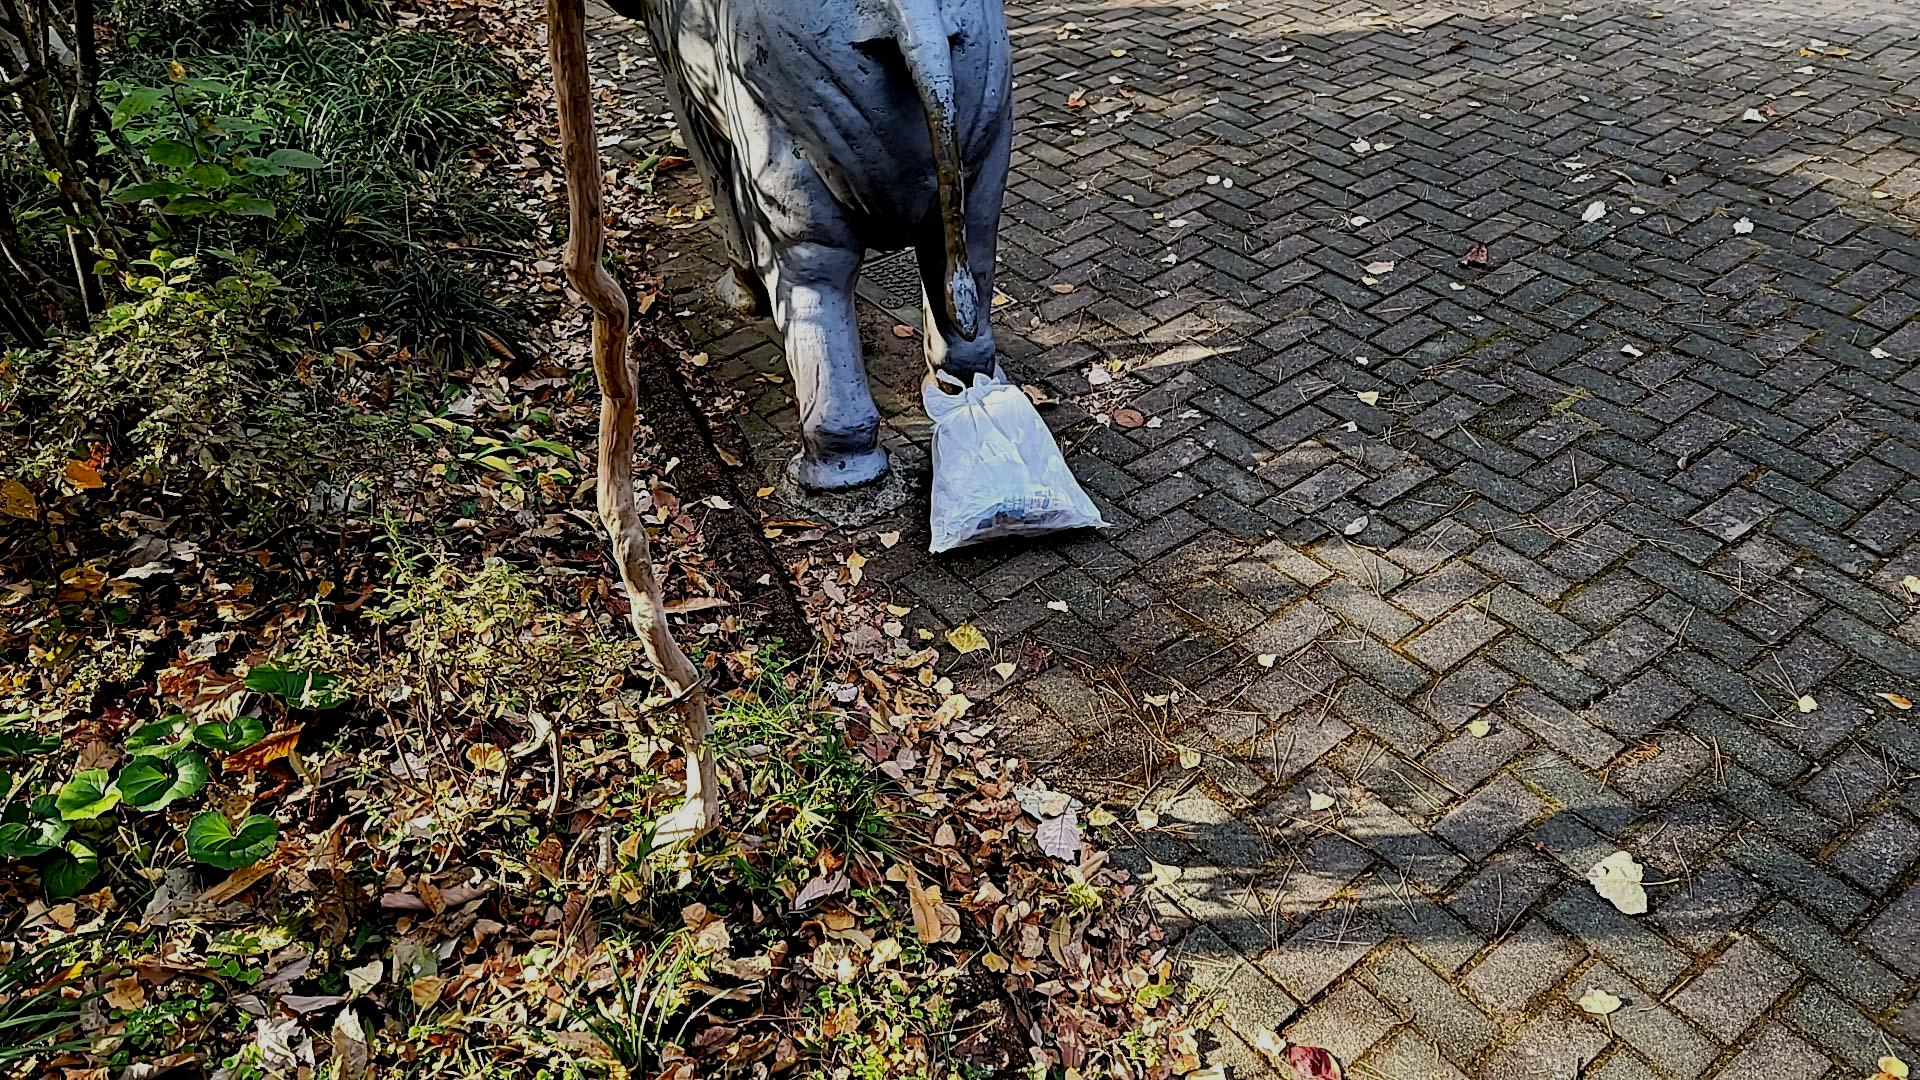white_bag: (901, 353, 1116, 560)
